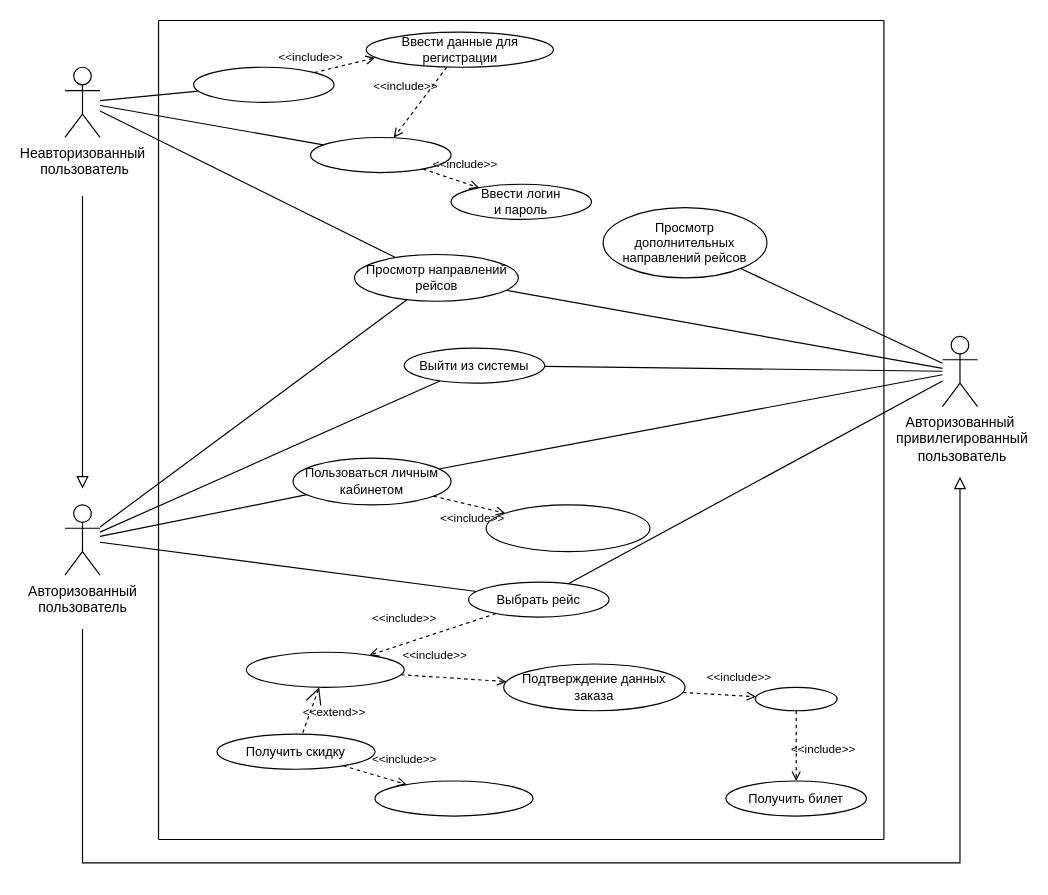
This 1048x895 diagram has some shape labels left out. The shapes that lost their labels are listed below. From the top down, each one's box as (x1, y1, x2, y2) in pixels, then its label:
(192, 66, 334, 102): Зарегистрироваться
(309, 136, 451, 173): Войти в систему
(485, 504, 650, 552): Посмотреть историю заказов
(245, 651, 404, 687): Заполнить данные пасажира
(754, 686, 837, 711): Оплата
(374, 780, 533, 816): Ввести промокод
